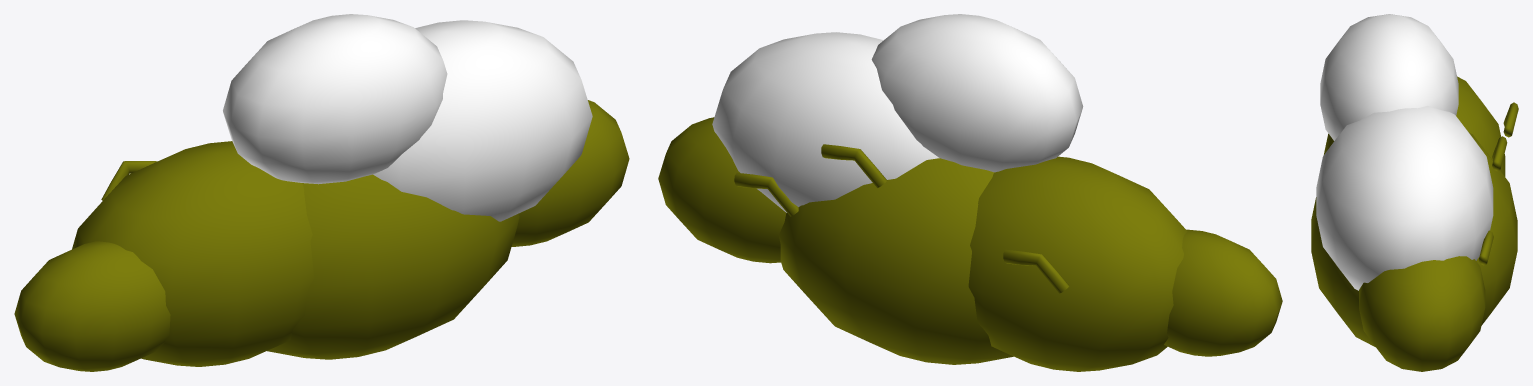
Rendered from Gas.glb.
3 renders of one model, left to right at view 1: azimuth 30°, elevation 25°; view 2: azimuth 150°, elevation 25°; view 3: azimuth 270°, elevation 25°, orthographic. The views are drawn at different scales.
Visible parts, largest first — view 1: Body, UpperCloud, TrailingCloud, Contours; view 2: Body, UpperCloud, TrailingCloud, Contours; view 3: UpperCloud, TrailingCloud, Body, Contours.
Boxes of the visible parts, box(x1,y1,x2,y2) form: Body: box(72, 141, 519, 366); UpperCloud: box(223, 14, 592, 221); TrailingCloud: box(14, 100, 629, 371); Contours: box(101, 161, 157, 200); Body: box(778, 156, 1187, 371); UpperCloud: box(712, 14, 1083, 212); TrailingCloud: box(658, 117, 1282, 356); Contours: box(734, 144, 1069, 293); UpperCloud: box(1316, 14, 1493, 290); TrailingCloud: box(1359, 256, 1485, 371); Body: box(1311, 76, 1517, 346); Contours: box(1478, 102, 1518, 265).
Bounding box in the file's own units: 0.9212 × 0.4804 × 0.3034.
Materials: 1 (1 with a texture image).
